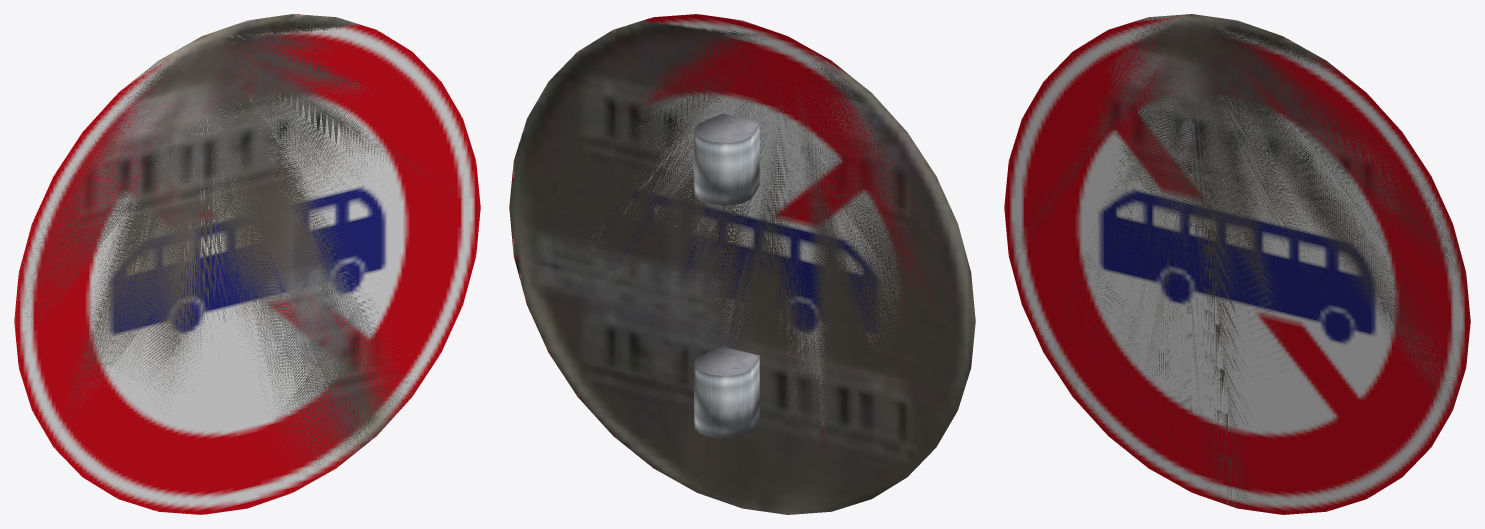
File: Parts_Plate_Circle400.fbx
3 renders of one model, left to right at view 1: azimuth 30°, elevation 25°; view 2: azimuth 150°, elevation 25°; view 3: azimuth 330°, elevation 25°, orthographic.
Visible parts, largest first — view 1: 956_plate_circle400; view 2: 956_plate_circle400; view 3: 956_plate_circle400.
Boxes of the visible parts, x1,y1,x2,y2 form: 956_plate_circle400: (14,14,480,514); 956_plate_circle400: (509,14,975,514); 956_plate_circle400: (1004,14,1470,514).
Bounding box in the file's own units: 0.4 × 0.4 × 0.0493.
